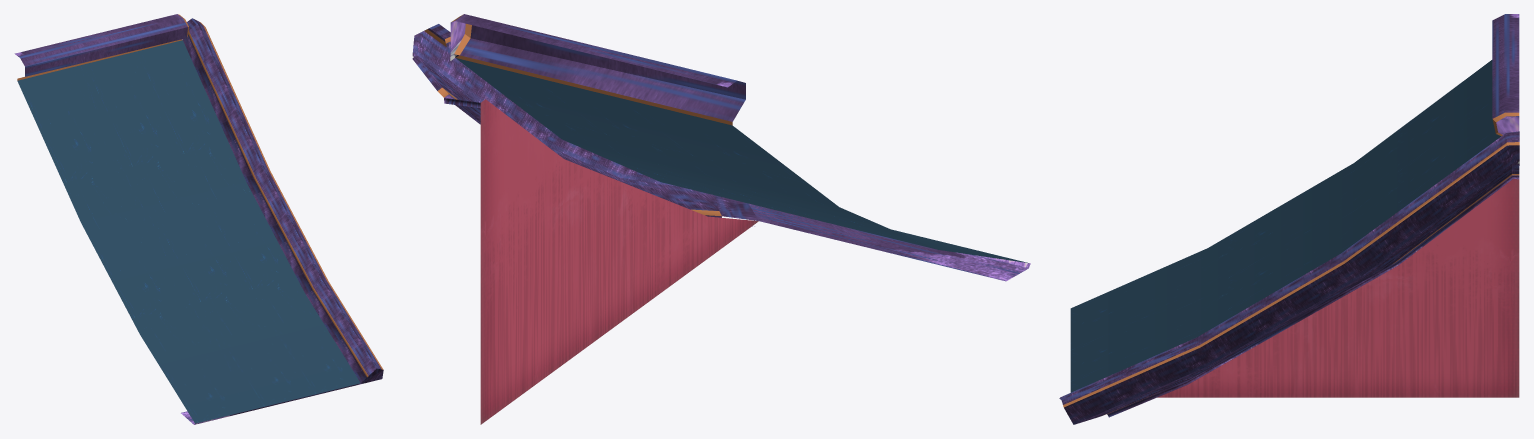
File: TempleRoof02Corner_Art.glb
3 renders of one model, left to right at view 1: azimuth 30°, elevation 25°; view 2: azimuth 150°, elevation 25°; view 3: azimuth 270°, elevation 25°, orthographic. The views are drawn at different scales.
Parts seen in each view (by area): view 1: TempleRoof02Corner_Art; view 2: TempleRoof02Corner_Art; view 3: TempleRoof02Corner_Art.
Boxes of the visible parts, <box> form: TempleRoof02Corner_Art: <box>14,14,383,424</box>; TempleRoof02Corner_Art: <box>412,14,1030,424</box>; TempleRoof02Corner_Art: <box>1059,14,1519,424</box>.
Bounding box in the file's own units: 8.44 × 10.41 × 14.41.
4 materials, 4 textured.
